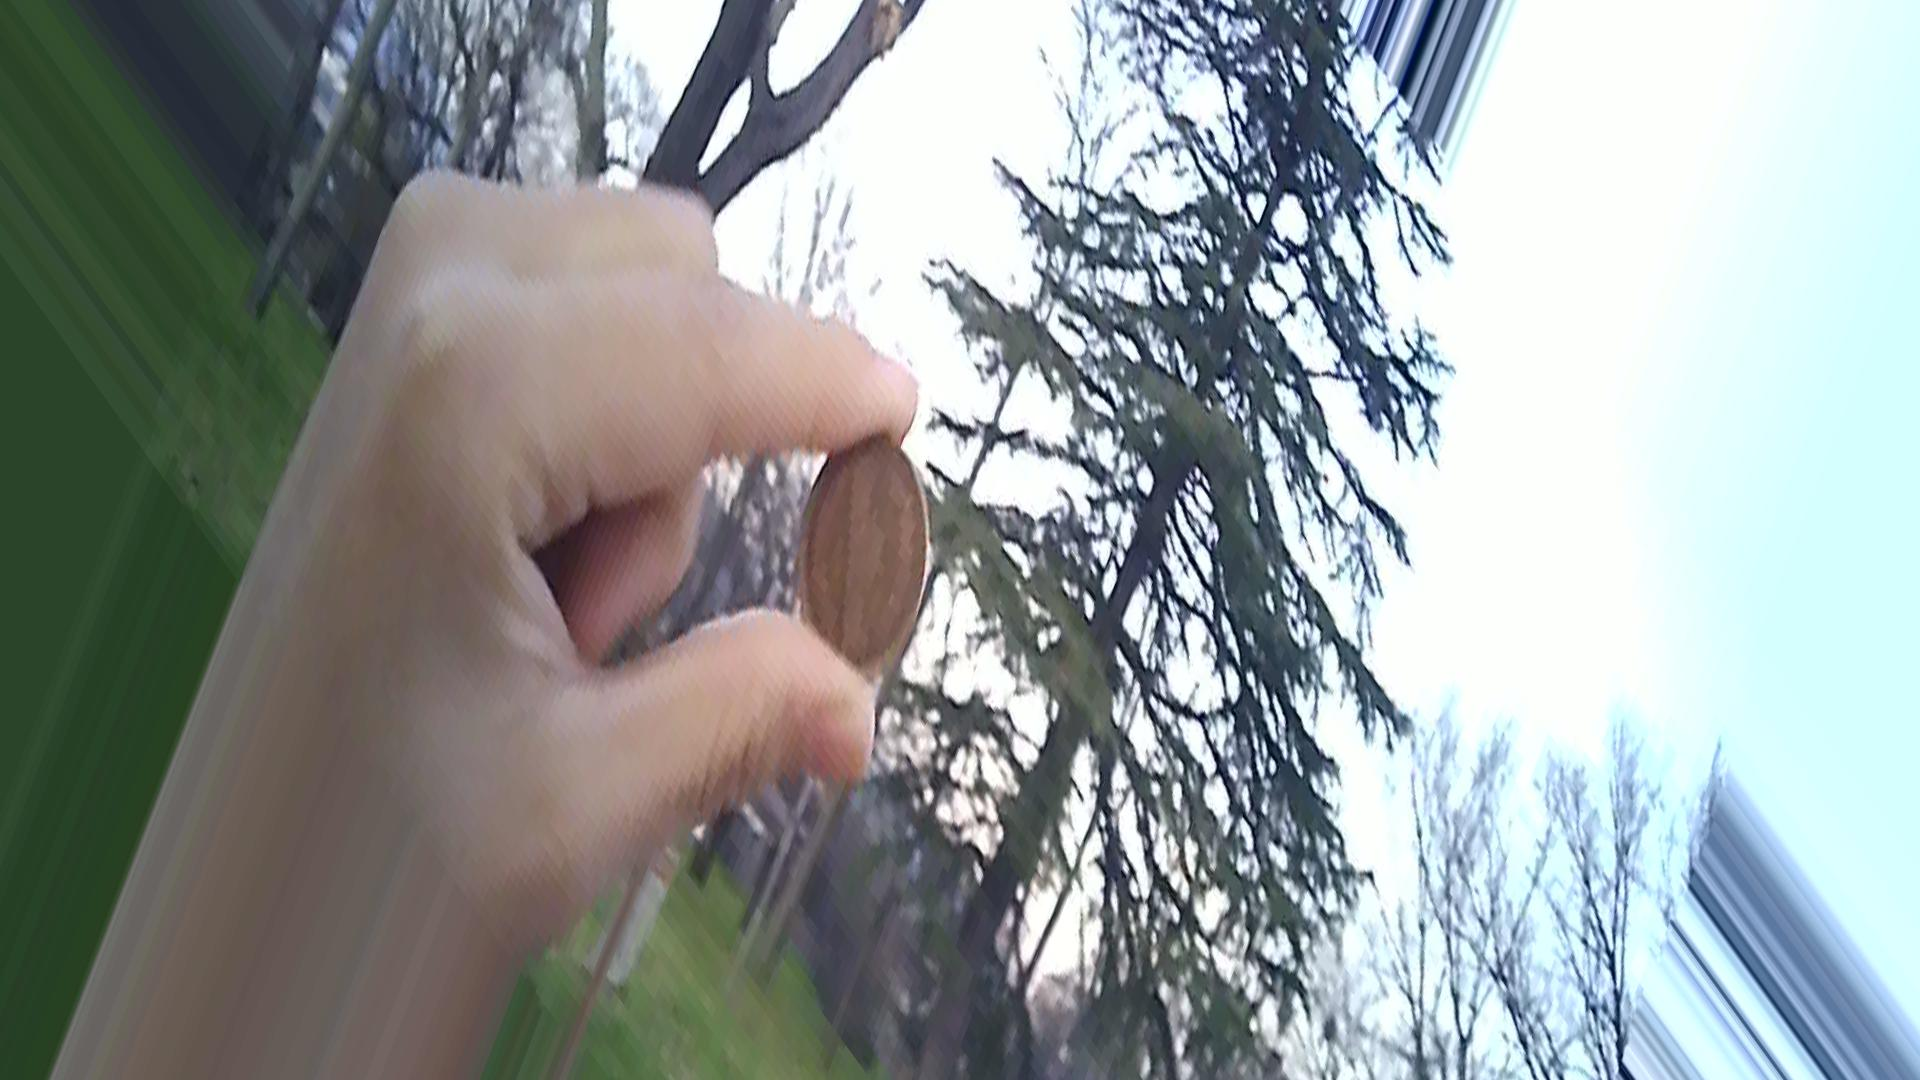10 Yen: (802, 429, 932, 683)
